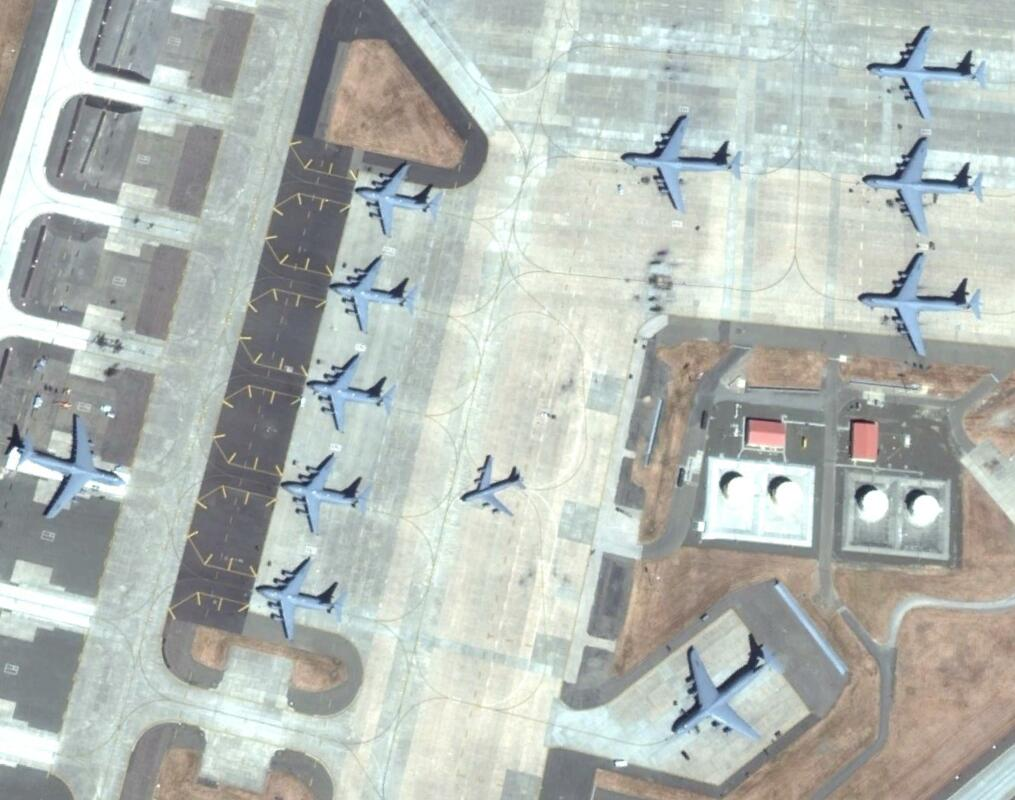A14: (461, 454, 527, 519)
A3: (258, 560, 343, 642), (307, 352, 396, 430), (282, 456, 370, 533), (330, 257, 419, 331), (355, 162, 443, 236)
A4: (858, 254, 984, 359), (13, 416, 127, 525), (864, 135, 986, 233), (623, 115, 743, 214), (672, 640, 781, 746), (869, 25, 988, 120)
